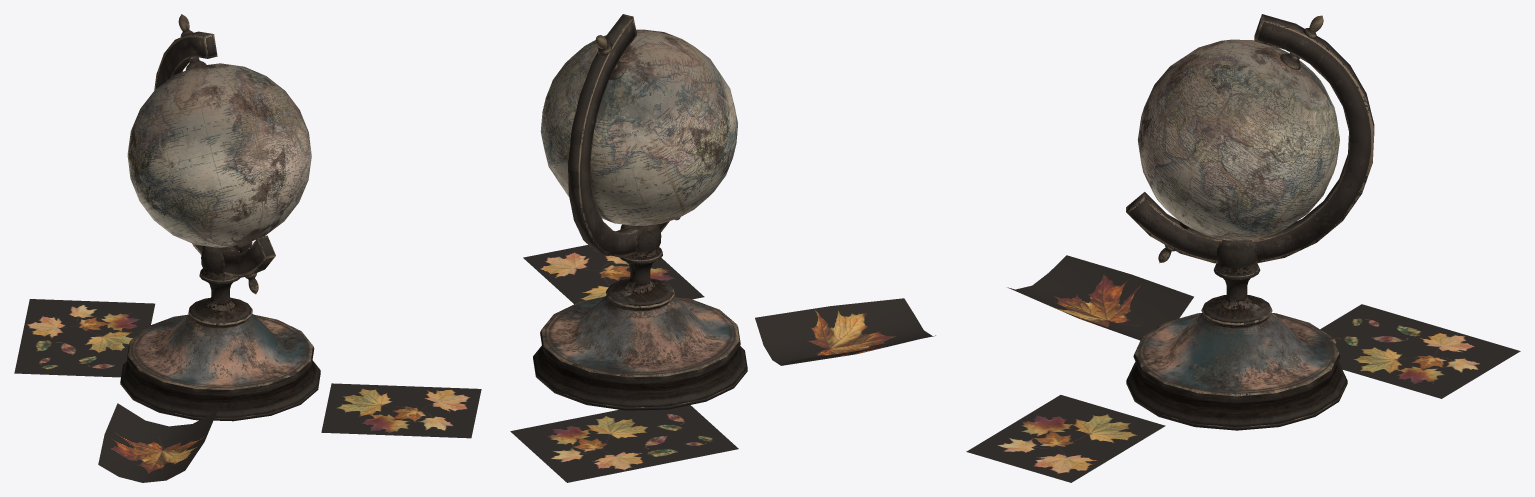
File: Globe.fbx
3 renders of one model, left to right at view 1: azimuth 30°, elevation 25°; view 2: azimuth 150°, elevation 25°; view 3: azimuth 270°, elevation 25°, orthographic. The views are drawn at different scales.
Visible parts, largest first — view 1: Object_3, Object_2; view 2: Object_3, Object_2; view 3: Object_3, Object_2.
Boxes of the visible parts, x1,y1,x2,y2 form: Object_3: [120, 14, 320, 421]; Object_2: [14, 299, 481, 482]; Object_3: [533, 14, 747, 410]; Object_2: [510, 245, 935, 482]; Object_3: [1126, 14, 1374, 430]; Object_2: [966, 255, 1520, 482].
Bounding box in the file's own units: 79.09 × 65.92 × 89.99.
